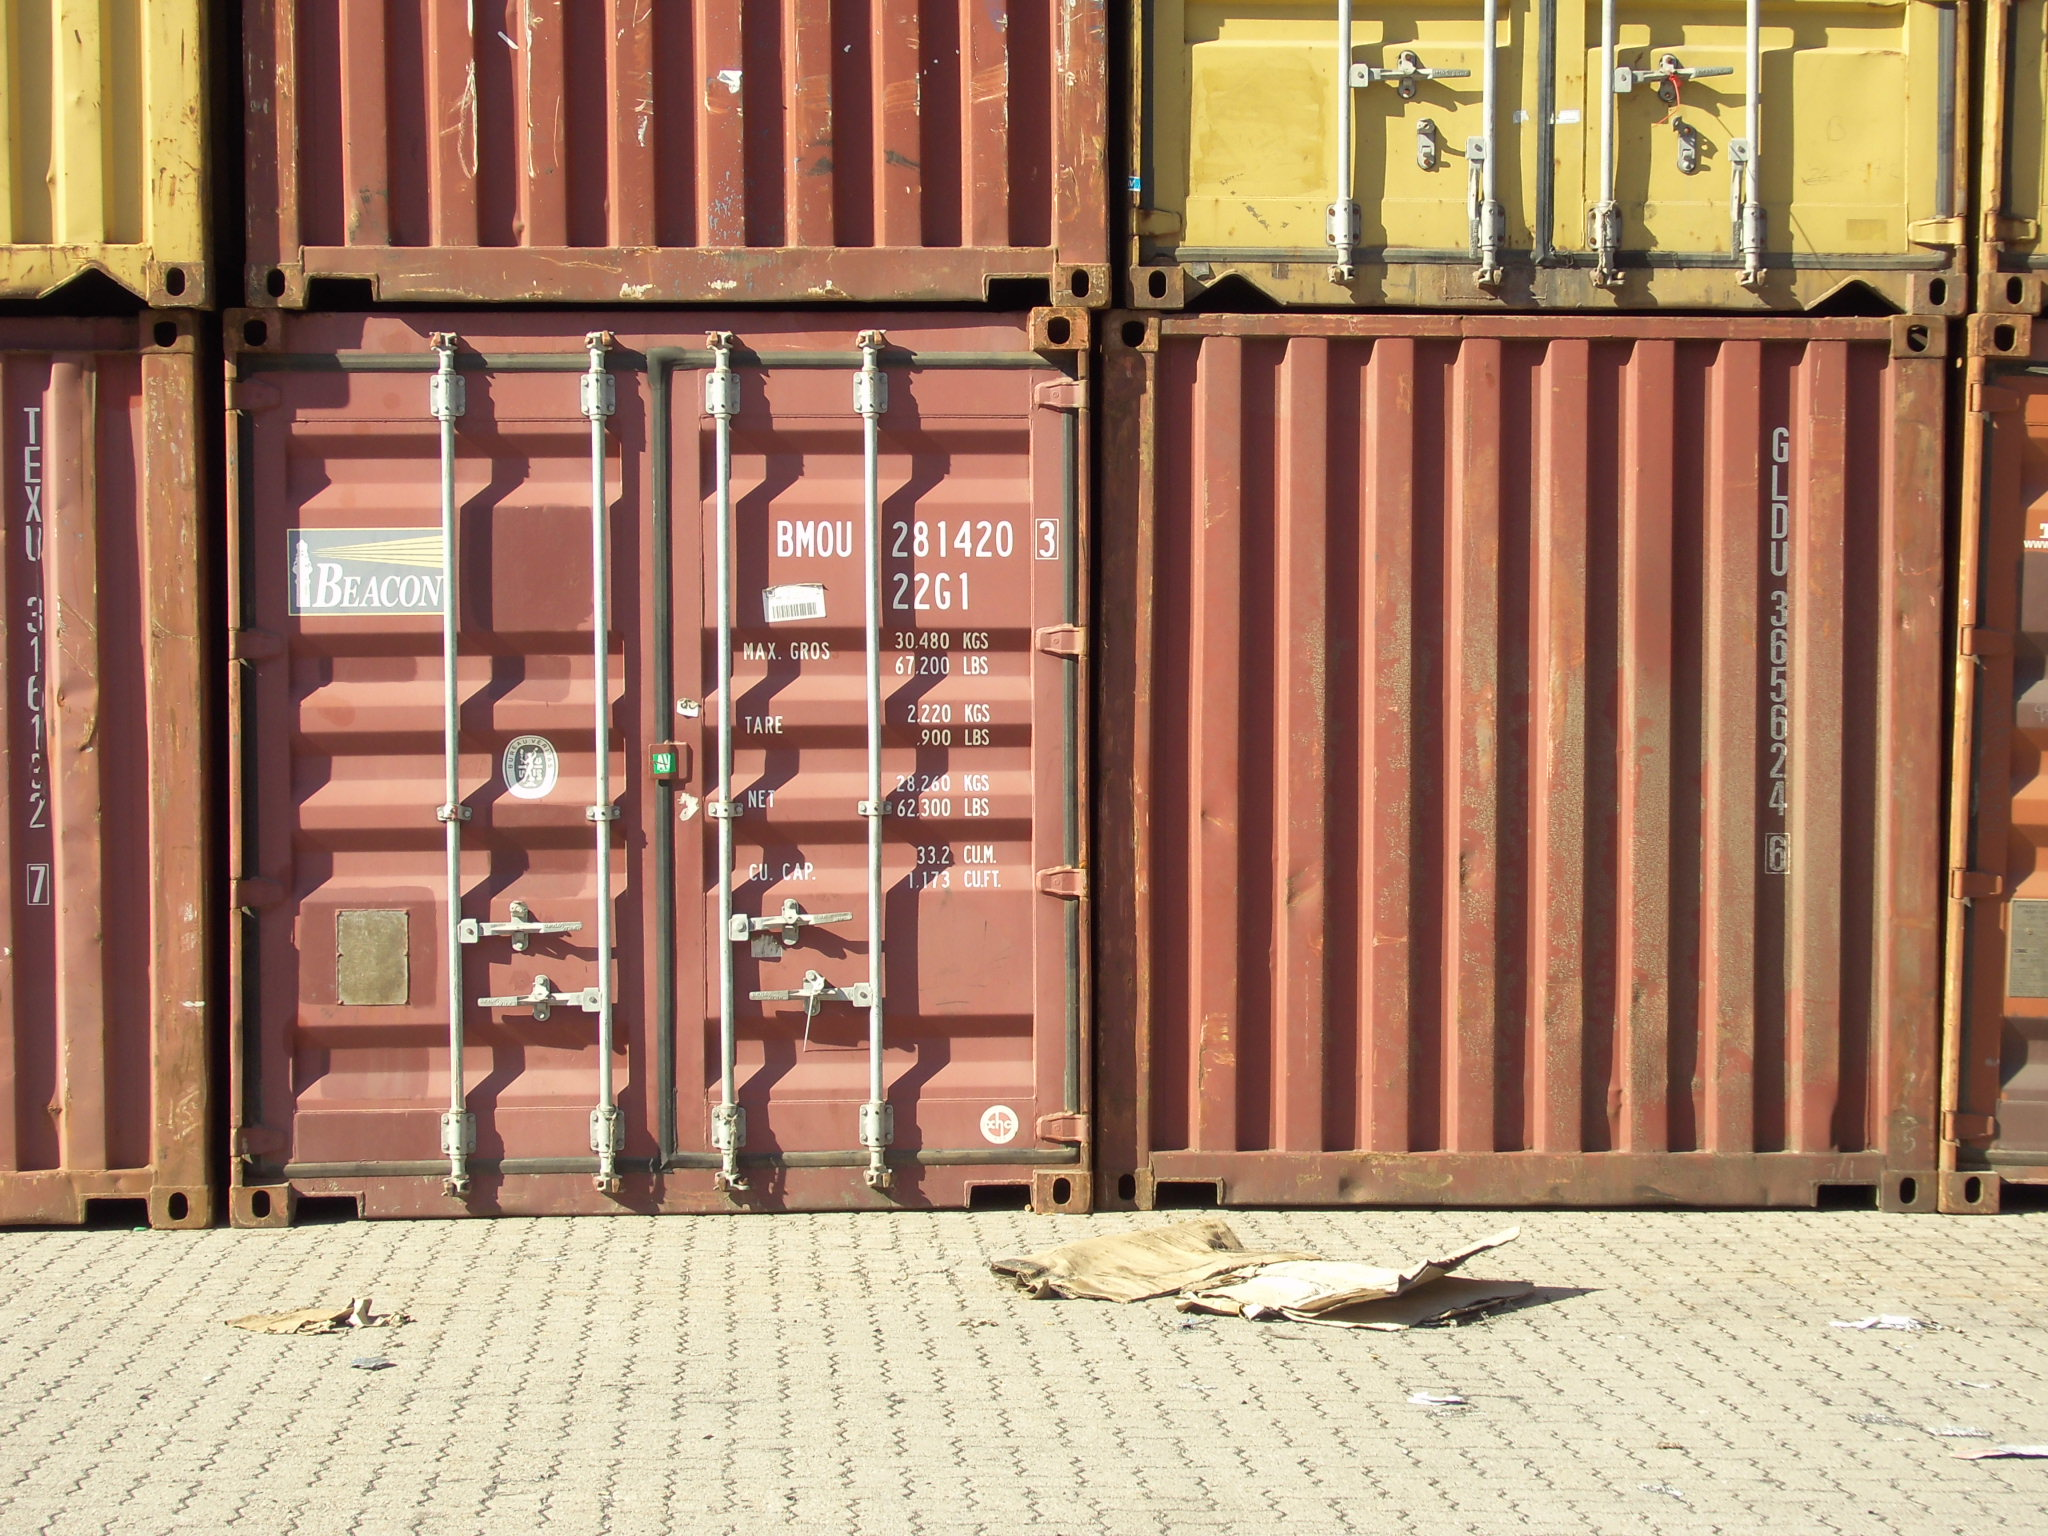container_door: (227, 313, 1087, 1221), (1134, 2, 1995, 316)
container_no_door: (1103, 318, 1945, 1210), (239, 2, 1098, 310)
